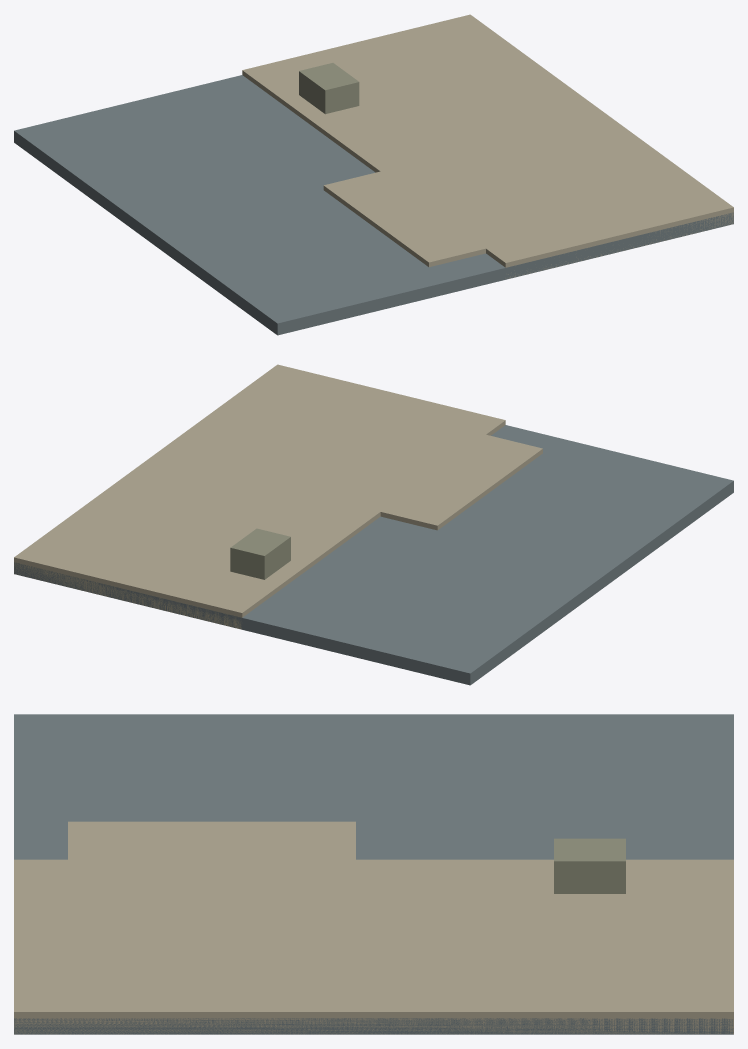
File: terrain-coast.glb
3 renders of one model, top to bottom at view 1: azimuth 30°, elevation 25°; view 2: azimuth 150°, elevation 25°; view 3: azimuth 270°, elevation 25°, orthographic. The views are drawn at different scales.
Parts seen in each view (by area): view 1: terrain-coast-0, terrain-coast-1, terrain-coast-2, terrain-coast-3; view 2: terrain-coast-0, terrain-coast-1, terrain-coast-2, terrain-coast-3; view 3: terrain-coast-1, terrain-coast-0, terrain-coast-2, terrain-coast-3.
Boxes of the visible parts, <box> form: terrain-coast-0: <box>14,75,733,335</box>; terrain-coast-1: <box>242,14,733,278</box>; terrain-coast-2: <box>323,171,485,267</box>; terrain-coast-3: <box>299,63,359,114</box>; terrain-coast-0: <box>14,425,733,685</box>; terrain-coast-1: <box>14,364,505,629</box>; terrain-coast-2: <box>380,434,542,530</box>; terrain-coast-3: <box>230,528,290,579</box>; terrain-coast-1: <box>14,859,733,1034</box>; terrain-coast-0: <box>14,714,733,1034</box>; terrain-coast-2: <box>68,821,355,859</box>; terrain-coast-3: <box>554,838,625,893</box>.
Bounding box in the file's own units: 4 × 0.34 × 4.
